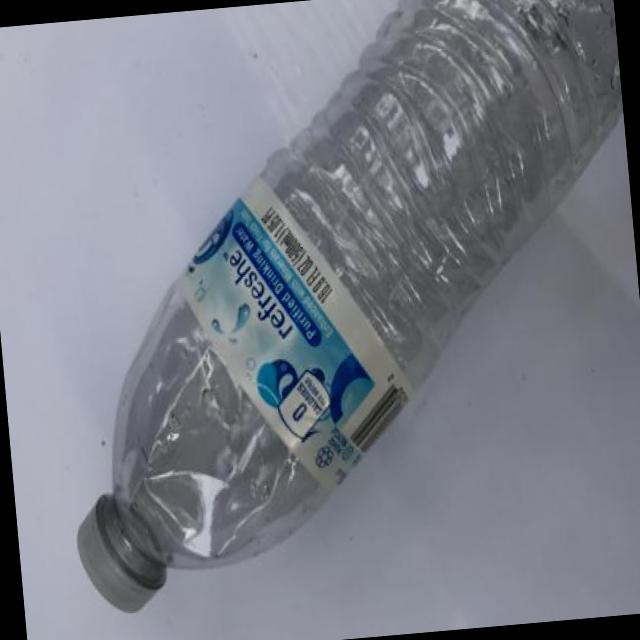Recycle: (30, 0, 640, 617)
